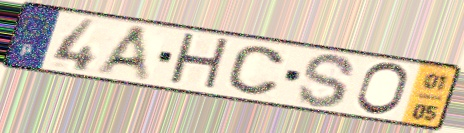4: (49, 16, 101, 74)
A: (91, 24, 153, 85)
C: (223, 44, 288, 98)
H: (165, 30, 233, 94)
O: (353, 61, 412, 118)
S: (295, 52, 358, 110)
